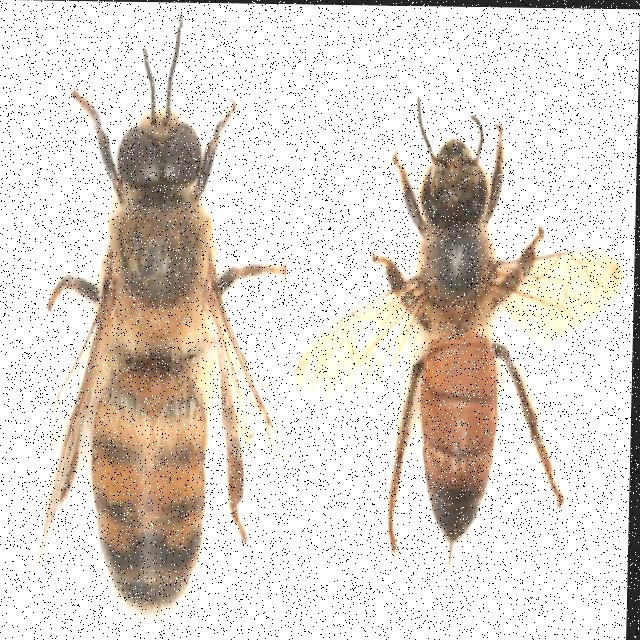Apis-mellifera-scutellata: (306, 75, 591, 640), (44, 26, 295, 636)
